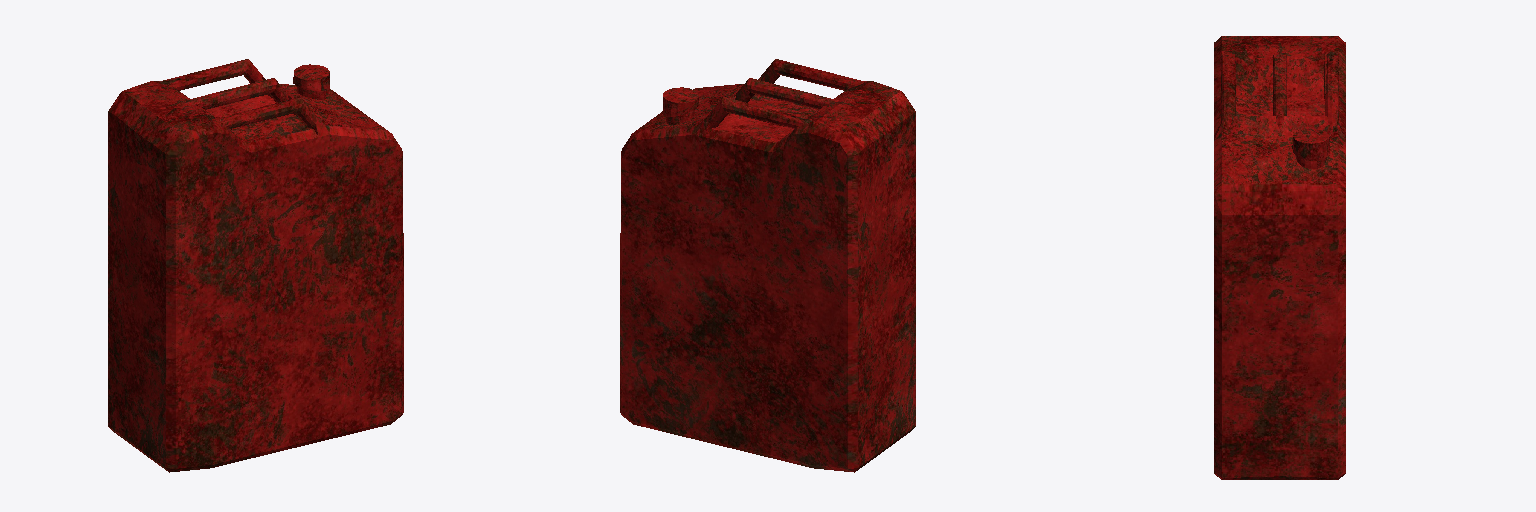
The picture shows the model from 3 angles: view 1: azimuth 30°, elevation 25°; view 2: azimuth 150°, elevation 25°; view 3: azimuth 270°, elevation 25°; orthographic projection.
Visible parts, largest first — view 1: Object_meshId0_name; view 2: Object_meshId0_name; view 3: Object_meshId0_name.
Boxes of the visible parts, x1,y1,x2,y2 form: Object_meshId0_name: [108, 59, 403, 472]; Object_meshId0_name: [620, 59, 915, 472]; Object_meshId0_name: [1214, 36, 1345, 479].
Size of the model in its own units: 0.5963 by 0.828 by 0.2852.
1 materials, 1 textured.